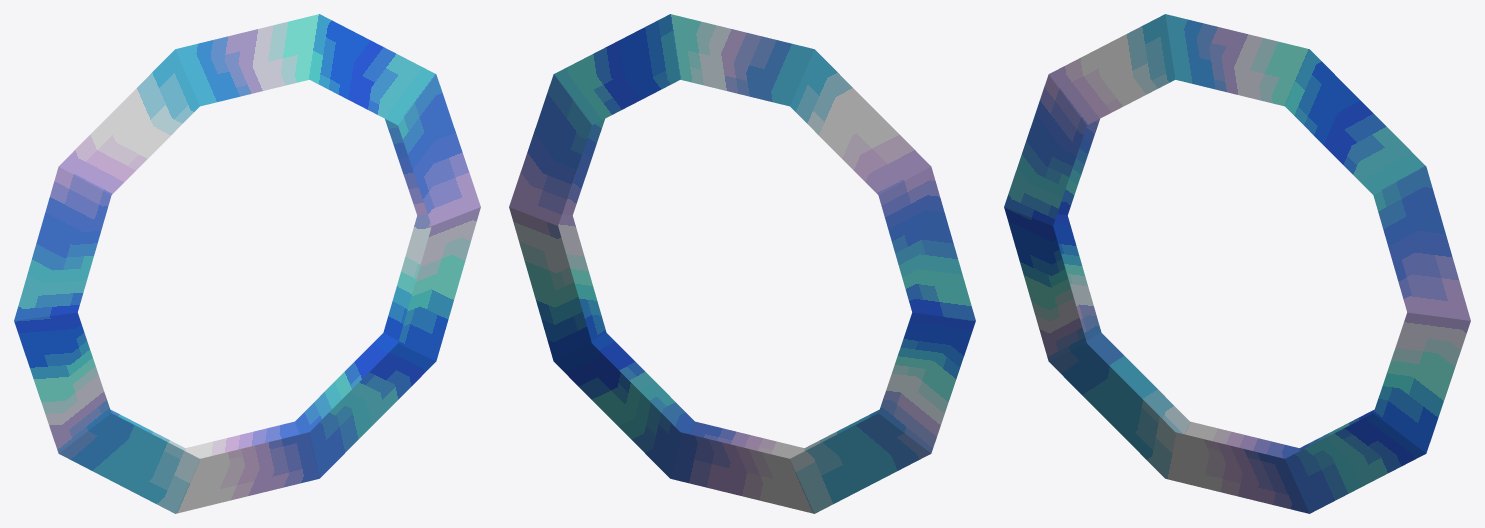
The model's file is w_ring.glb.
3 renders of one model, left to right at view 1: azimuth 30°, elevation 25°; view 2: azimuth 150°, elevation 25°; view 3: azimuth 330°, elevation 25°, orthographic.
Visible parts, largest first — view 1: w_ring; view 2: w_ring; view 3: w_ring.
Part boxes in pixels (<box>): w_ring: <box>14,14,480,513</box>; w_ring: <box>509,14,975,513</box>; w_ring: <box>1004,14,1470,513</box>.
Size of the model in its own units: 13.5 by 12.84 by 0.7305.
Materials: 1 (1 with a texture image).
